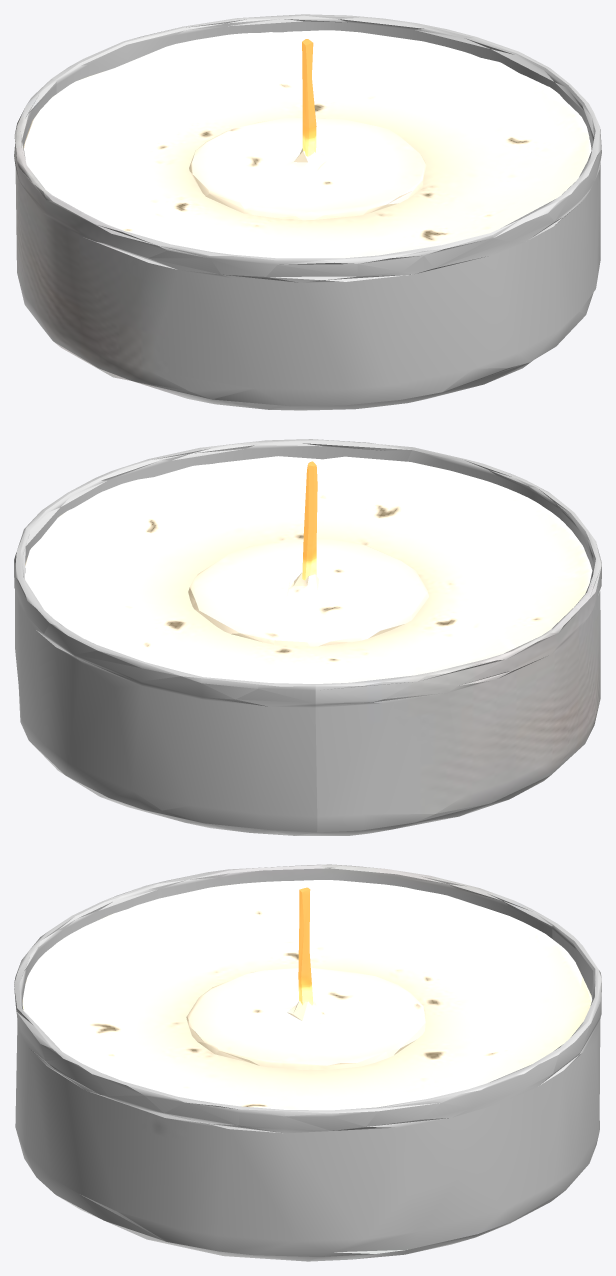
File: night_tea_candles.glb
The picture shows the model from 3 angles, top to bottom: view 1: azimuth 30°, elevation 25°; view 2: azimuth 150°, elevation 25°; view 3: azimuth 270°, elevation 25°; orthographic projection.
Parts seen in each view (by area): view 1: night_tea_candles; view 2: night_tea_candles; view 3: night_tea_candles.
Boxes of the visible parts, left/top/right/bottom form: night_tea_candles: left=14, top=14, right=601, bottom=410; night_tea_candles: left=14, top=439, right=601, bottom=835; night_tea_candles: left=14, top=864, right=601, bottom=1261.
Size of the model in its own units: 0.0402 by 0.0195 by 0.04.
3 materials, 3 textured.
